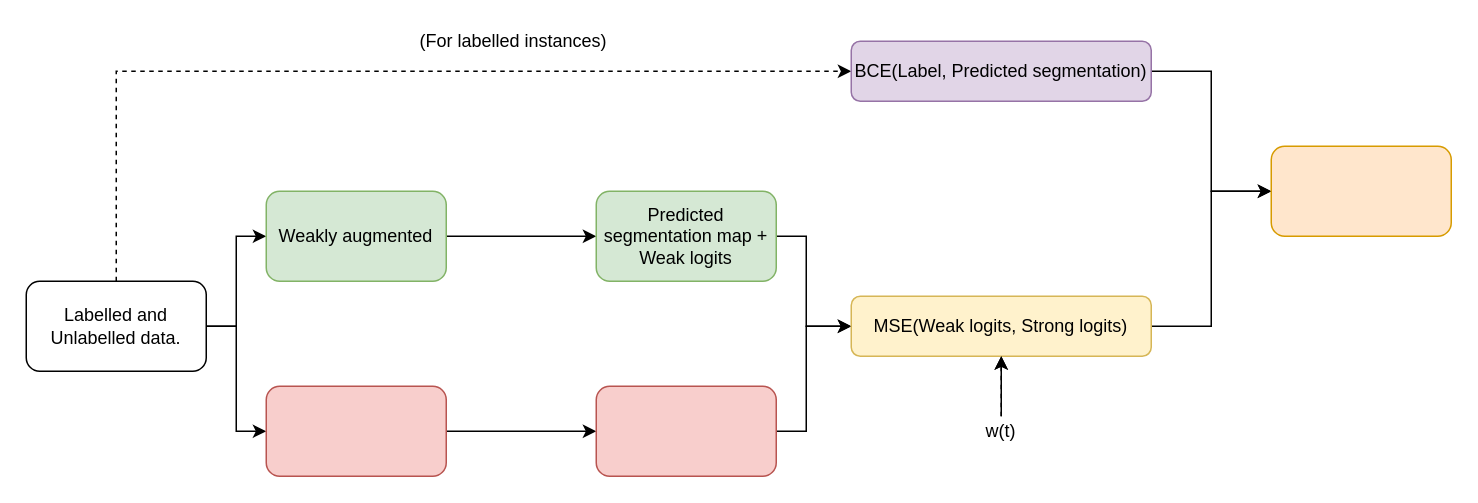
Some shapes in this 1478 by 503 pixel diagram are drawn without their labels. Here are the shapes that lost their labels. From the top down, the centre of each, then its label:
point (1360, 190): Total Loss
point (355, 430): Strongly augmented
point (685, 430): Predicted segmentation map + Strong logits
